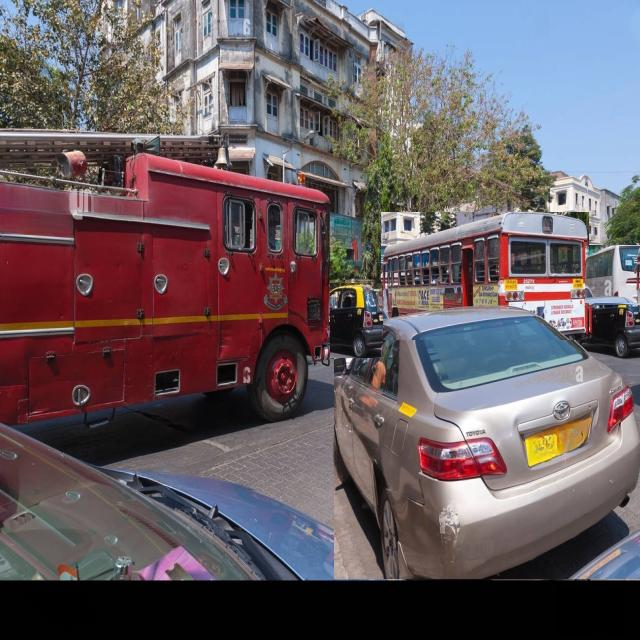bus: (381, 213, 589, 340), (585, 245, 640, 303)
car: (334, 306, 640, 579), (330, 284, 382, 358)
emergency: (0, 131, 330, 423)
